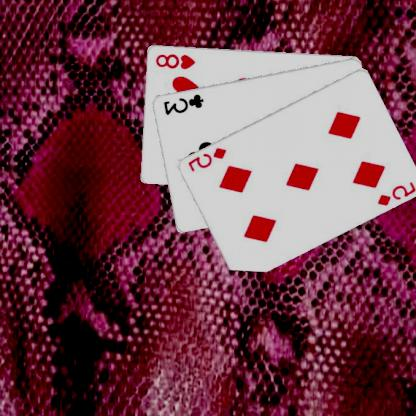3C: (162, 91, 206, 116)
5D: (186, 145, 230, 173), (376, 178, 416, 208)
8H: (155, 51, 198, 70)
